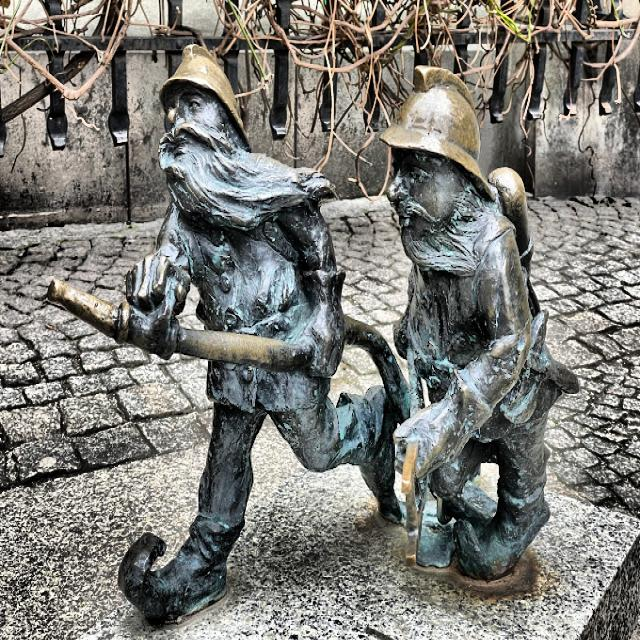Pozarki: (45, 43, 581, 624)
